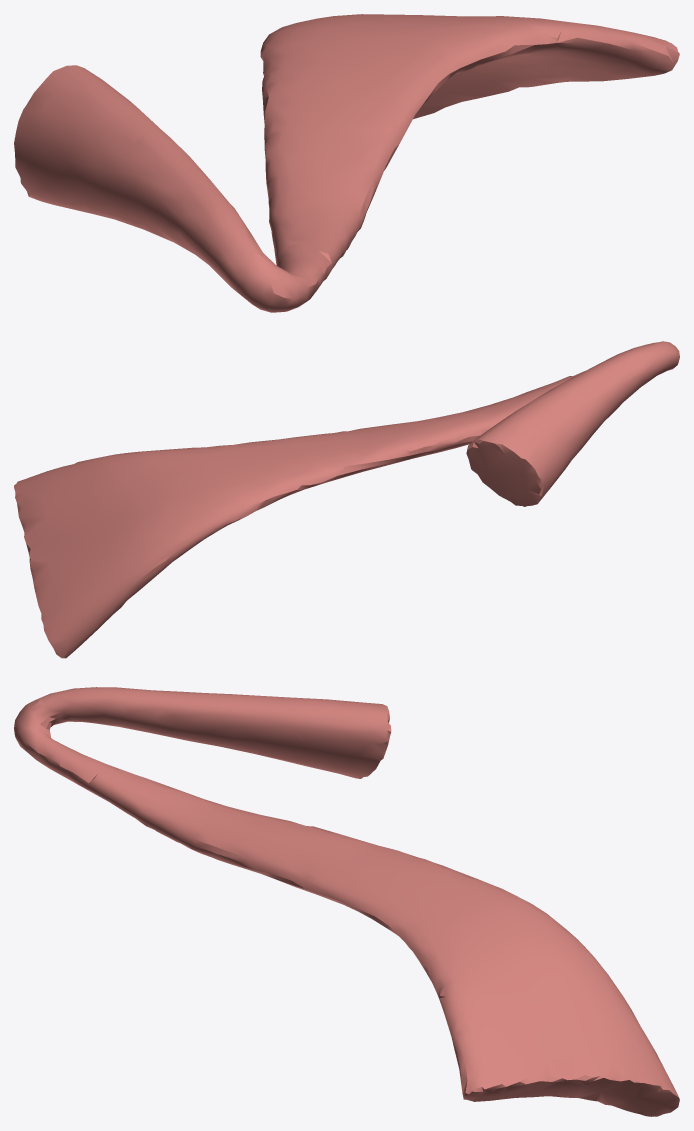
Rendered from fma54130-f_mm2222.glb.
The picture shows the model from 3 angles, top to bottom: view 1: azimuth 30°, elevation 25°; view 2: azimuth 150°, elevation 25°; view 3: azimuth 270°, elevation 25°; orthographic projection. The views are drawn at different scales.
Parts seen in each view (by area): view 1: FMA54130-F_MM2222; view 2: FMA54130-F_MM2222; view 3: FMA54130-F_MM2222.
Part boxes in pixels (<box>): FMA54130-F_MM2222: <box>14,14,679,312</box>; FMA54130-F_MM2222: <box>14,341,679,658</box>; FMA54130-F_MM2222: <box>14,687,679,1116</box>.
Bounding box in the file's own units: 0.016 × 0.00676 × 0.0168.
